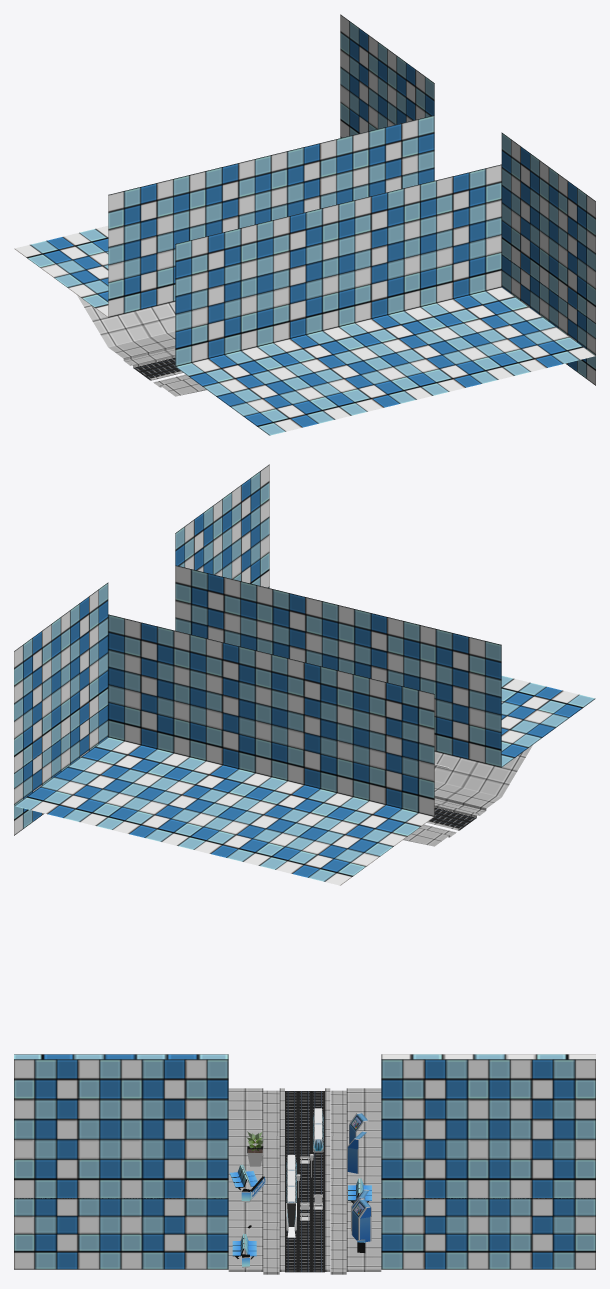
File: subwaysurfmap6test.glb
3 renders of one model, top to bottom at view 1: azimuth 30°, elevation 25°; view 2: azimuth 150°, elevation 25°; view 3: azimuth 270°, elevation 25°, orthographic. The views are drawn at different scales.
Visible parts, largest first — view 1: tiledwall.003, tiledwall, tiledwall.005, tiledwall.006, tiledwall.007, tiledwall.001, tiledwall.002, tiledwall.011, tiledwall.014, tiledwall.015, tiledwall.009, tiledwall.008 (+4 smaller); view 2: tiledwall.014, tiledwall.015, tiledwall.011, tiledwall.007, tiledwall.006, tiledwall.008, tiledwall.009, tiledwall.005, tiledwall.003, tiledwall, tiledwall.002, tiledwall.001 (+4 smaller); view 3: tiledwall.001, tiledwall.008, tiledwall.009, tiledwall.002, tiledwall.010, tiledwall.013, tiledwall.004, tiledwall.012, tile.012, tile.024, tile.015, tiledwall.006 (+15 smaller).
Part boxes in pixels (box(x1,y1,x2,y2)): tiledwall.003: box(338, 184, 513, 395); tiledwall: box(420, 164, 595, 375); tiledwall.005: box(257, 204, 432, 415); tiledwall.006: box(175, 224, 350, 435); tiledwall.007: box(14, 175, 189, 317); tiledwall.001: box(501, 132, 548, 288); tiledwall.002: box(549, 167, 595, 323); tiledwall.011: box(96, 155, 271, 240); tiledwall.014: box(271, 135, 352, 220); tiledwall.015: box(353, 115, 434, 200); tiledwall.009: box(340, 14, 387, 137); tiledwall.008: box(387, 49, 434, 126); tiledwall.014: box(96, 634, 271, 845); tiledwall.015: box(14, 614, 189, 825); tiledwall.011: box(177, 654, 352, 865); tiledwall.007: box(259, 674, 434, 885); tiledwall.006: box(420, 625, 595, 767); tiledwall.008: box(61, 582, 108, 738); tiledwall.009: box(14, 617, 60, 773); tiledwall.005: box(338, 605, 513, 690); tiledwall.003: box(257, 585, 338, 670); tiledwall: box(175, 565, 256, 650); tiledwall.002: box(222, 464, 269, 587); tiledwall.001: box(175, 499, 222, 576); tiledwall.001: box(121, 1059, 228, 1198); tiledwall.008: box(381, 1059, 488, 1198); tiledwall.009: box(488, 1059, 595, 1198); tiledwall.002: box(14, 1059, 121, 1198); tiledwall.010: box(14, 1198, 121, 1269); tiledwall.013: box(488, 1198, 595, 1269); tiledwall.004: box(121, 1198, 228, 1269); tiledwall.012: box(381, 1198, 488, 1269); tile.012: box(228, 1088, 263, 1133); tile.024: box(346, 1088, 381, 1133); tile.015: box(346, 1224, 381, 1271); tiledwall.006: box(14, 1054, 228, 1059).
Size of what is drawn, in the model's own units: 160 by 89.52 by 217.
3 materials, 2 textured.
